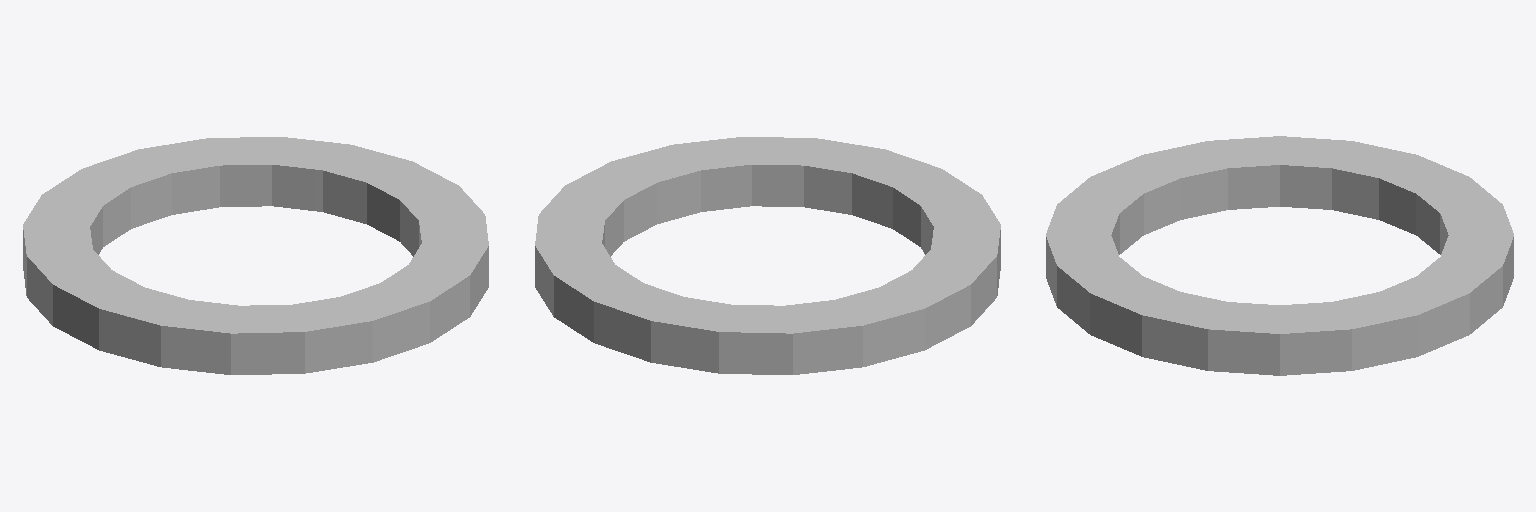
The model's file is light.obj.
The picture shows the model from 3 angles: view 1: azimuth 30°, elevation 25°; view 2: azimuth 150°, elevation 25°; view 3: azimuth 270°, elevation 25°; orthographic projection.
Size of the model in its own units: 0.7434 by 0.0731 by 0.7434.